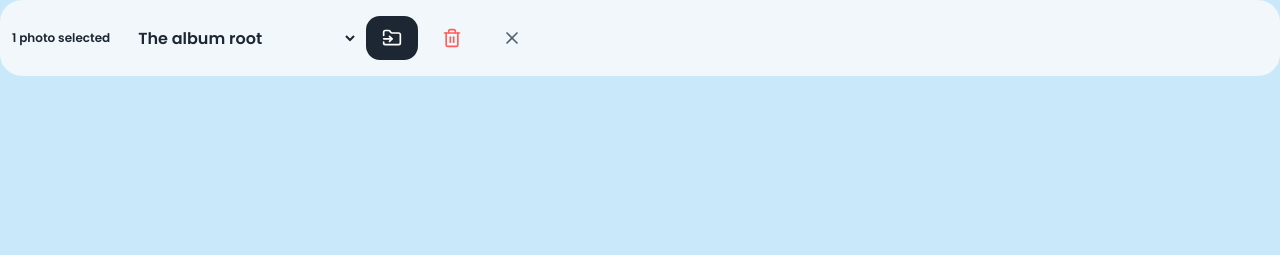
PhotoMoveBar › removes only after the two-step confirm, with the rows-first-files-afterwards warning
Step 1. Click the button named "Remove the selected photos" → x=452, y=38, box x1=426 y1=16 x2=478 y2=60
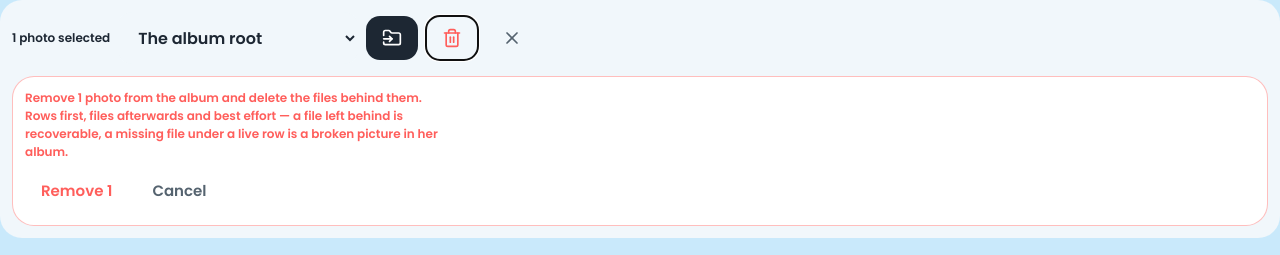
Expected: the text "Remove 1 photo from the album and delete the files behind them" is shown, x1=25 y1=89 x2=444 y2=161
Step 2. Click the button "Remove 1" → x=77, y=191, box x1=25 y1=169 x2=128 y2=213
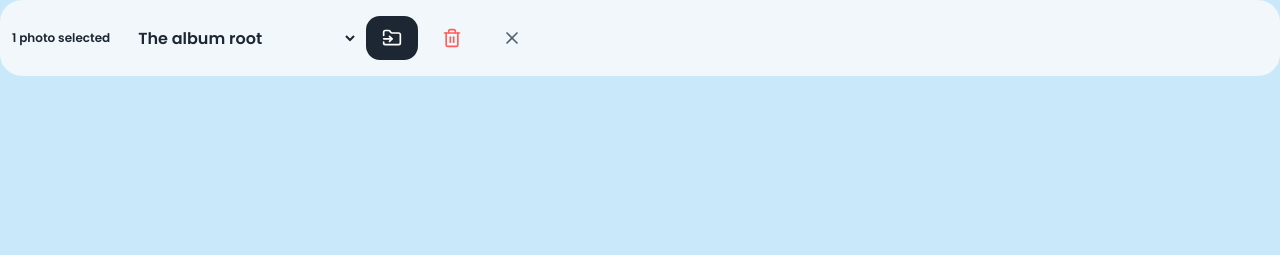
Expected: the text "delete the files behind them" is gone
